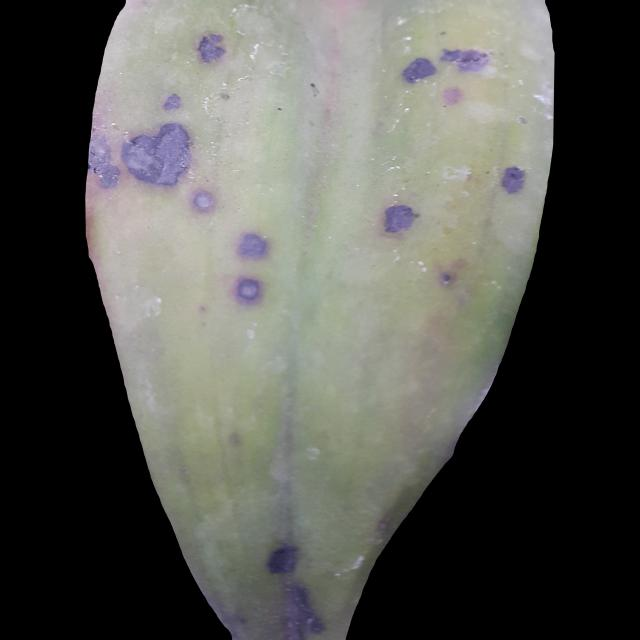mite: (95, 20, 538, 312), (226, 199, 424, 307), (230, 228, 271, 307), (188, 25, 234, 70), (87, 135, 120, 189), (401, 55, 437, 84), (196, 31, 226, 65), (237, 231, 268, 259), (233, 276, 262, 304), (191, 188, 215, 213), (162, 91, 182, 111), (440, 270, 453, 285)
sunburn: (380, 201, 421, 237)
